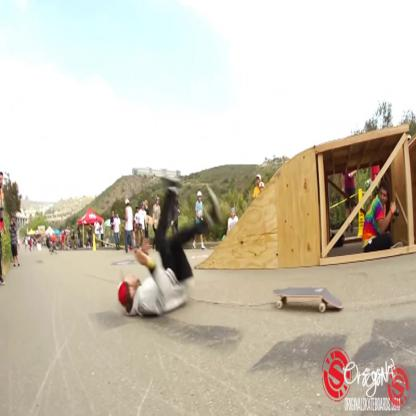Fall_Down: (118, 174, 224, 319)
